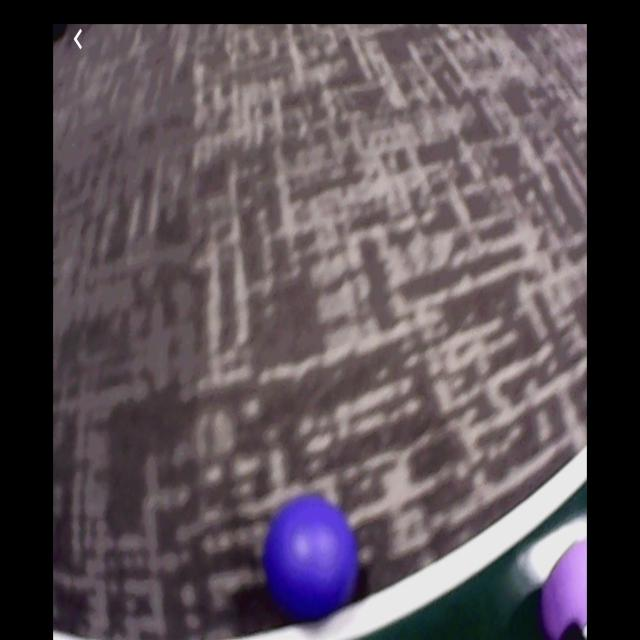ball: (264, 493, 360, 618), (541, 538, 588, 638)
